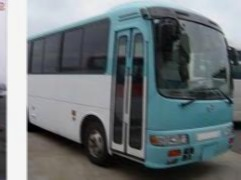bus: (27, 5, 235, 171)
